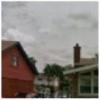chimneys: (72, 43, 82, 66)
